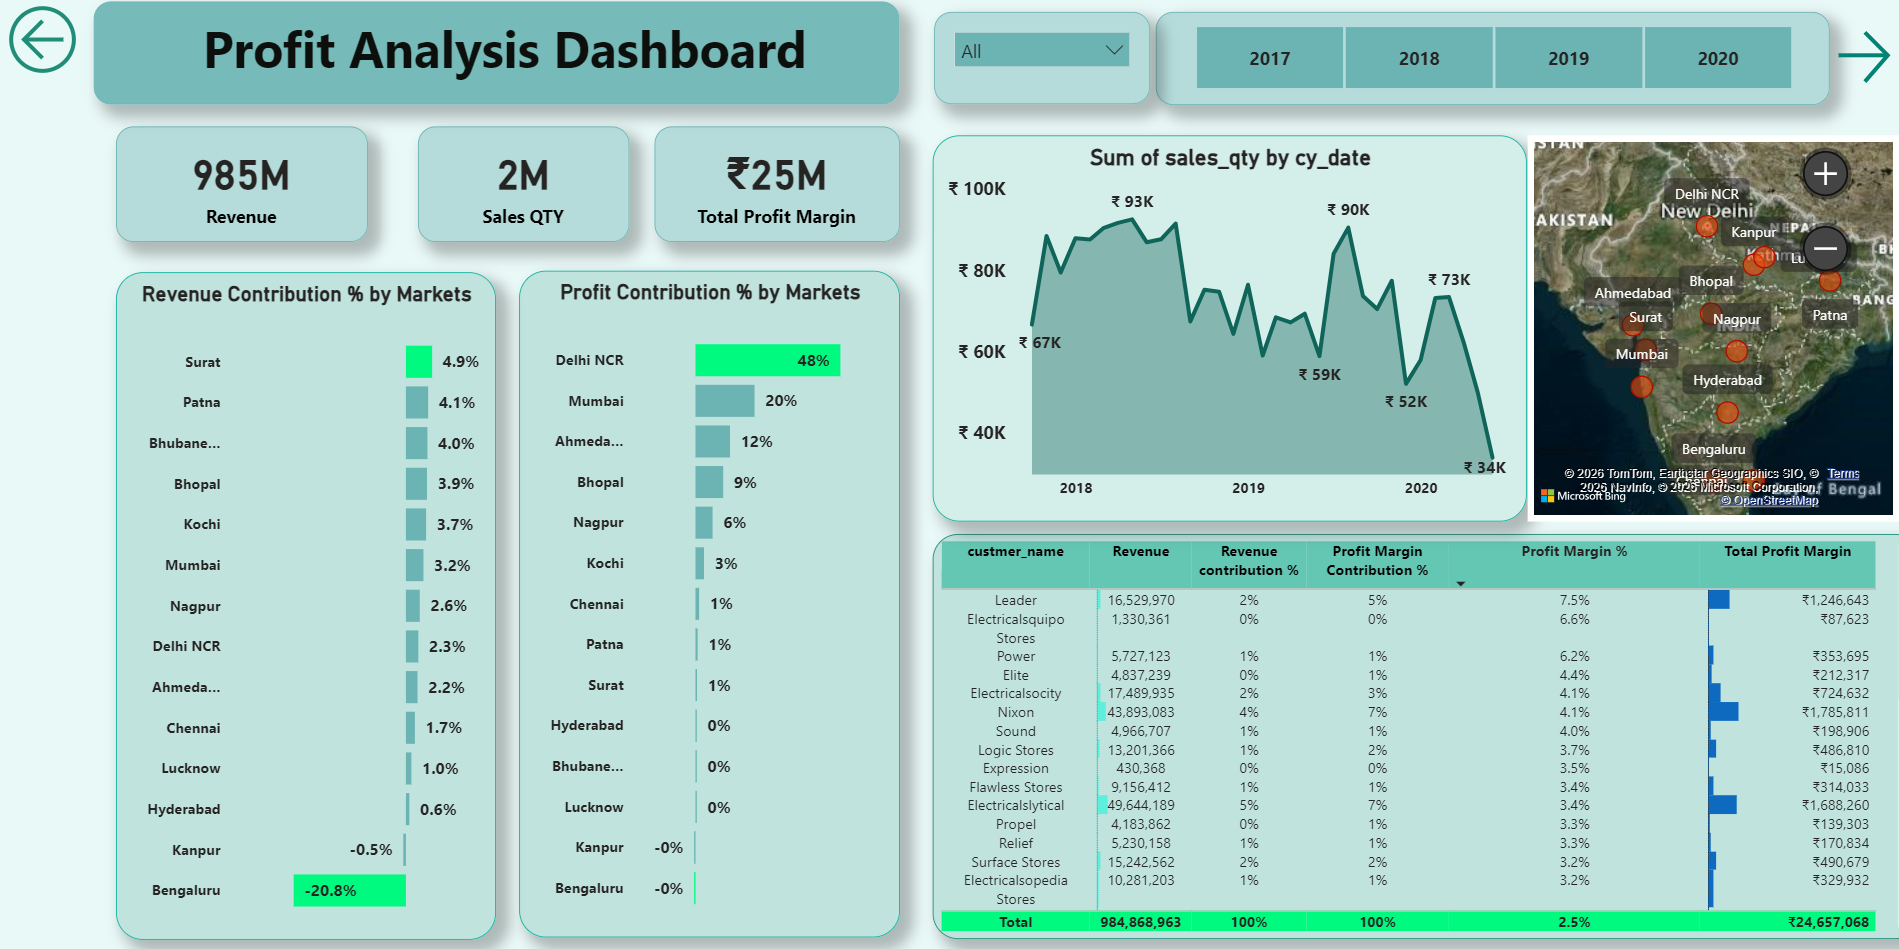

The dashboard page shown, as its layout file describes it:
{"tool":"powerbi","page":{"name":"Profit Analysis","canvas":[1441,720],"ordinal":2},"visuals":[{"type":"card","fields":{"Values":["Basemeasure.Revenue"]},"box":[86.6,97.6,188.9,86.6],"z":0,"group":"g1"},{"type":"card","fields":{"Values":["Basemeasure.Sales QTY"]},"box":[313.2,97.6,159,86.6],"z":1000,"group":"g1"},{"type":"clusteredBarChart","title":"Profit Contribution %  by Markets","fields":{"Y":["Basemeasure.Profit Margin Contribution %"],"Category":["sales markets.markets_name"]},"box":[389.4,205.7,285.6,499.9],"z":2000,"group":"g1"},{"type":"slicer","fields":{"Values":["sales date.year"]},"box":[866.8,11.3,505.5,69.7],"z":3000,"group":"g1"},{"type":"slicer","fields":{"Values":["sales date.cy_date"]},"box":[700.5,11,162.1,69.3],"z":4000,"group":"g1"},{"type":"areaChart","fields":{"Category":["sales date.cy_date"],"Y":["Sum(sales transactions.sales_qty)"]},"box":[699.9,103.7,445.6,290],"z":5000,"group":"g1"},{"type":"card","fields":{"Values":["Basemeasure.Total Profit Margin"]},"box":[491.1,97.6,184.2,86.6],"z":6000,"group":"g1"},{"type":"clusteredBarChart","title":"Revenue Contribution %  by Markets","fields":{"Y":["Basemeasure.Profit Margin %"],"Category":["sales markets.markets_name"]},"box":[86.6,206.2,284.9,500.6],"z":7000,"group":"g1"},{"type":"tableEx","fields":{"Values":["sales customers.custmer_name","Basemeasure.Revenue","Basemeasure.Revenue contribution %","Basemeasure.Profit Margin Contribution %","Basemeasure.Profit Margin %","Basemeasure.Total Profit Margin"]},"box":[699.6,402.8,740.6,303.9],"z":8000},{"type":"textbox","box":[70.8,3.1,604.4,77.1],"z":9000,"group":"g1"},{"type":"actionButton","box":[0,0,99.7,63.7],"z":10000,"group":"g1"},{"type":"actionButton","box":[1372.3,11.3,50.2,68],"z":11000,"group":"g1"},{"type":"map","fields":{"Category":["sales markets.State"]},"box":[1145.5,103.7,278.7,290],"z":12000,"group":"g1"},{"type":"group","id":"g1","title":"Group 1","box":[0,0,1424.1,706.8],"z":12001}]}

Visuals, with their boxes in screenshot pixels (x1, y1, x2, y2), scaled from the page's 1441x720 canvas onto the 1899x949 screenshot:
card - Basemeasure.Revenue: [114, 129, 363, 243]
card - Basemeasure.Sales QTY: [413, 129, 622, 243]
"Profit Contribution %  by Markets" clusteredBarChart: [513, 271, 890, 930]
slicer - sales date.year: [1142, 15, 1808, 107]
slicer - sales date.cy_date: [923, 14, 1137, 106]
areaChart - sales date.cy_date x Sum(sales transactions.sales_qty): [922, 137, 1510, 519]
card - Basemeasure.Total Profit Margin: [647, 129, 890, 243]
"Revenue Contribution %  by Markets" clusteredBarChart: [114, 272, 490, 932]
tableEx - sales customers.custmer_name x Basemeasure.Revenue: [922, 531, 1898, 931]
textbox: [93, 4, 890, 106]
actionButton: [0, 0, 131, 84]
actionButton: [1808, 15, 1875, 105]
map - sales markets.State: [1510, 137, 1877, 519]
"Group 1" group: [0, 0, 1877, 932]
